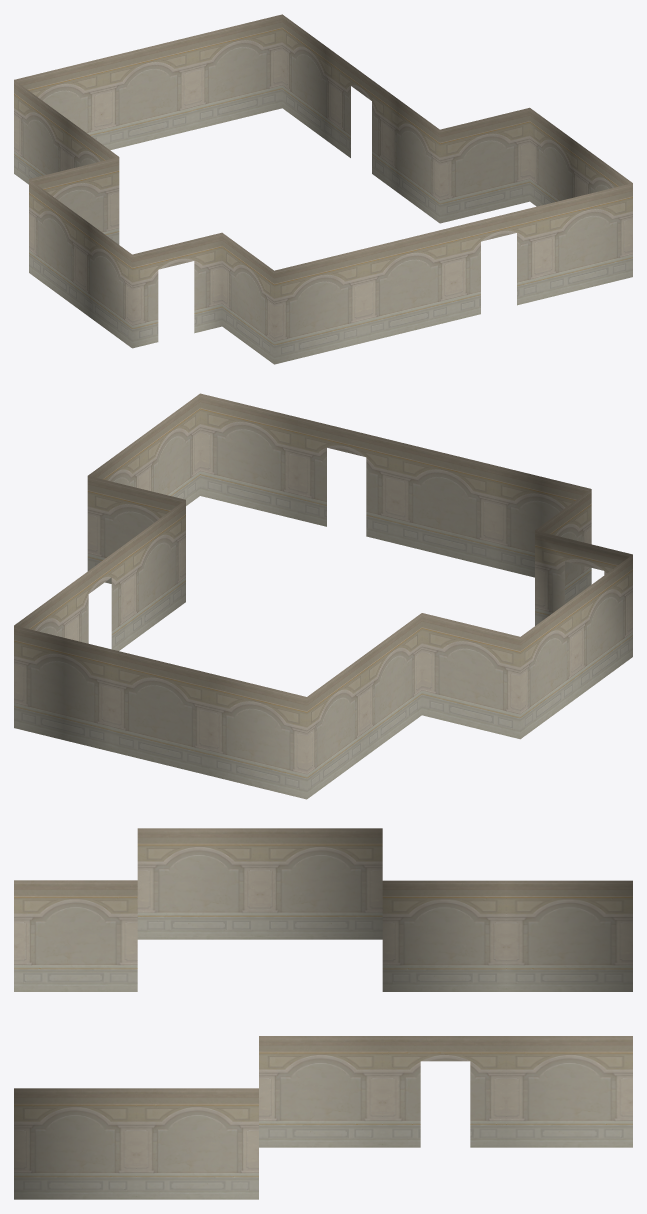
The model's file is Homeworld_Interior_Fd_Room_E_Filling_01_Vo.fbx.
The picture shows the model from 3 angles, top to bottom: view 1: azimuth 30°, elevation 25°; view 2: azimuth 150°, elevation 25°; view 3: azimuth 270°, elevation 25°; orthographic projection. The views are drawn at different scales.
Visible parts, largest first — view 1: Homeworld_Interior_Fd_Room_E_Filling_01_Vo; view 2: Homeworld_Interior_Fd_Room_E_Filling_01_Vo; view 3: Homeworld_Interior_Fd_Room_E_Filling_01_Vo.
Part boxes in pixels (<box>): Homeworld_Interior_Fd_Room_E_Filling_01_Vo: <box>14,14,632,364</box>; Homeworld_Interior_Fd_Room_E_Filling_01_Vo: <box>14,393,632,799</box>; Homeworld_Interior_Fd_Room_E_Filling_01_Vo: <box>14,828,632,1199</box>.
Bounding box in the file's own units: 24.9 × 4.98 × 25.05.
